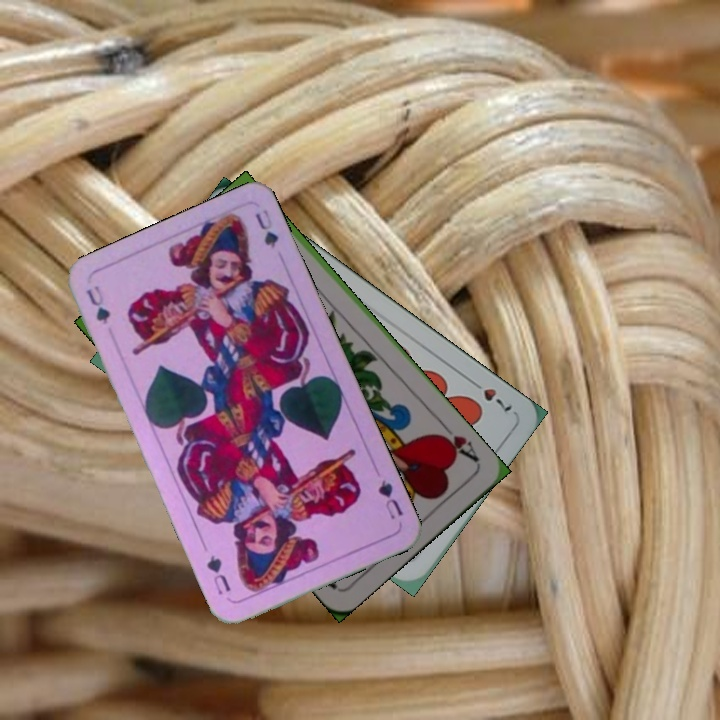GU: (374, 475, 406, 522), (82, 281, 113, 328)
H7: (465, 375, 515, 416)
HA: (432, 418, 482, 466)
